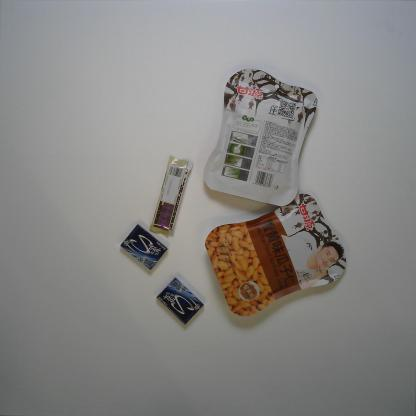Chocolate: (149, 156, 194, 238)
Dried Fruit: (204, 193, 348, 317), (203, 68, 318, 207)
Gum: (156, 277, 204, 325), (119, 224, 168, 271)
